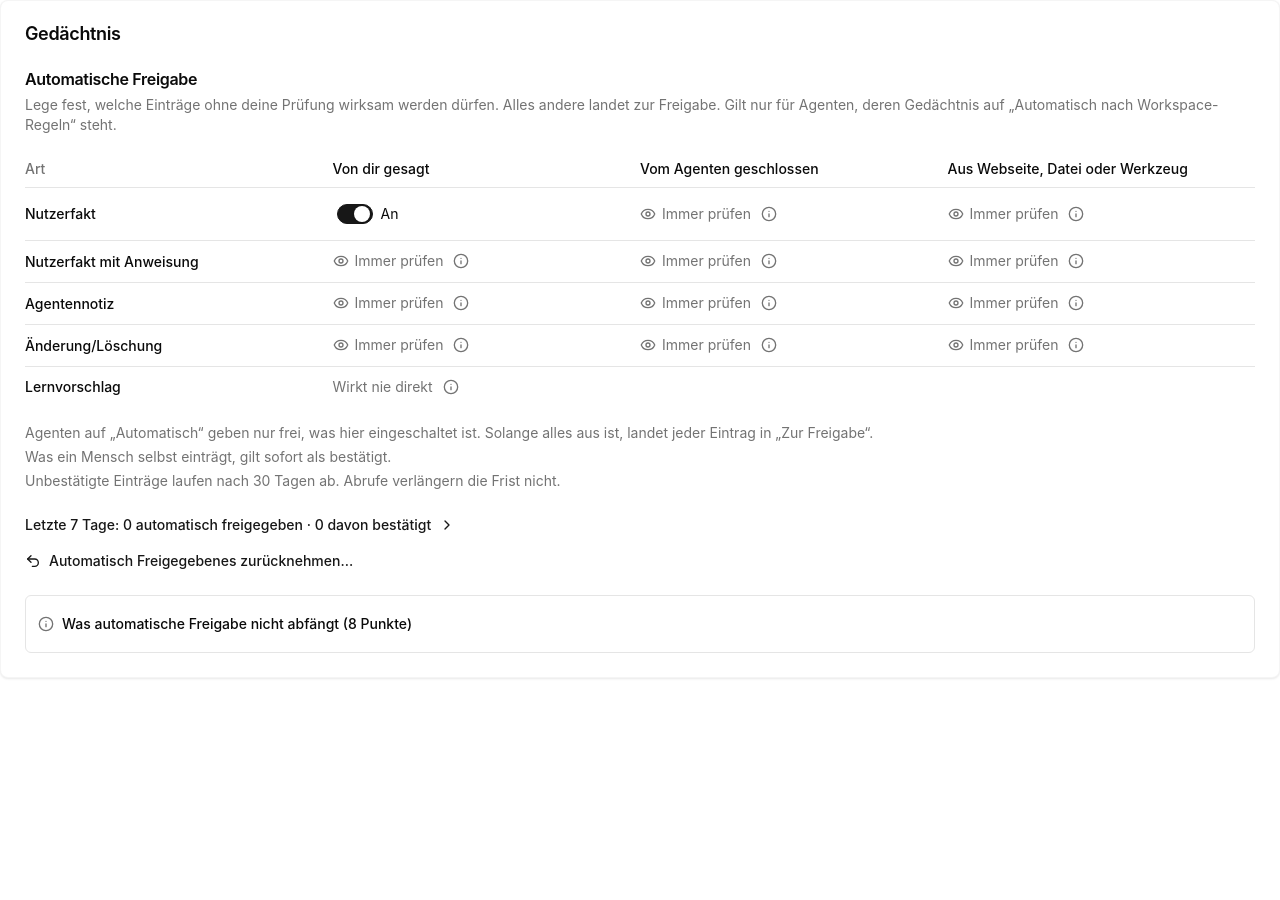
Test: MemoryApprovalSection (Lernschleife C6, ADR-0053 4.2/4.3) › bleibt bei einem Speicherfehler auf dem Serverstand und zeigt den Fehler
Click the switch: (367, 214) [332, 196, 402, 232]
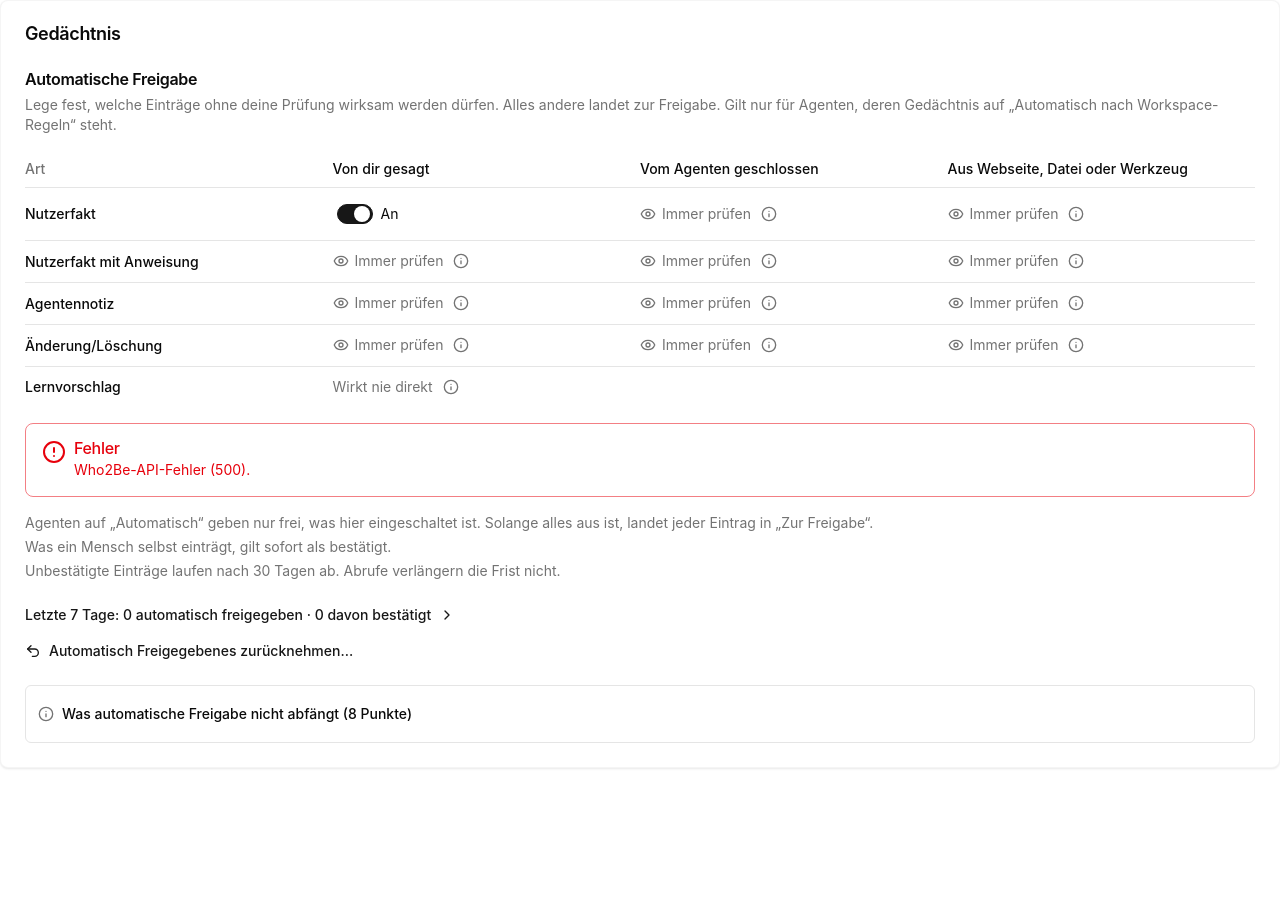
Expected: the message "Fehler Who2Be-API-Fehler (500)." is shown, [25, 423, 1255, 497]
